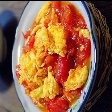fanqiechaojidan: (14, 0, 93, 112)
